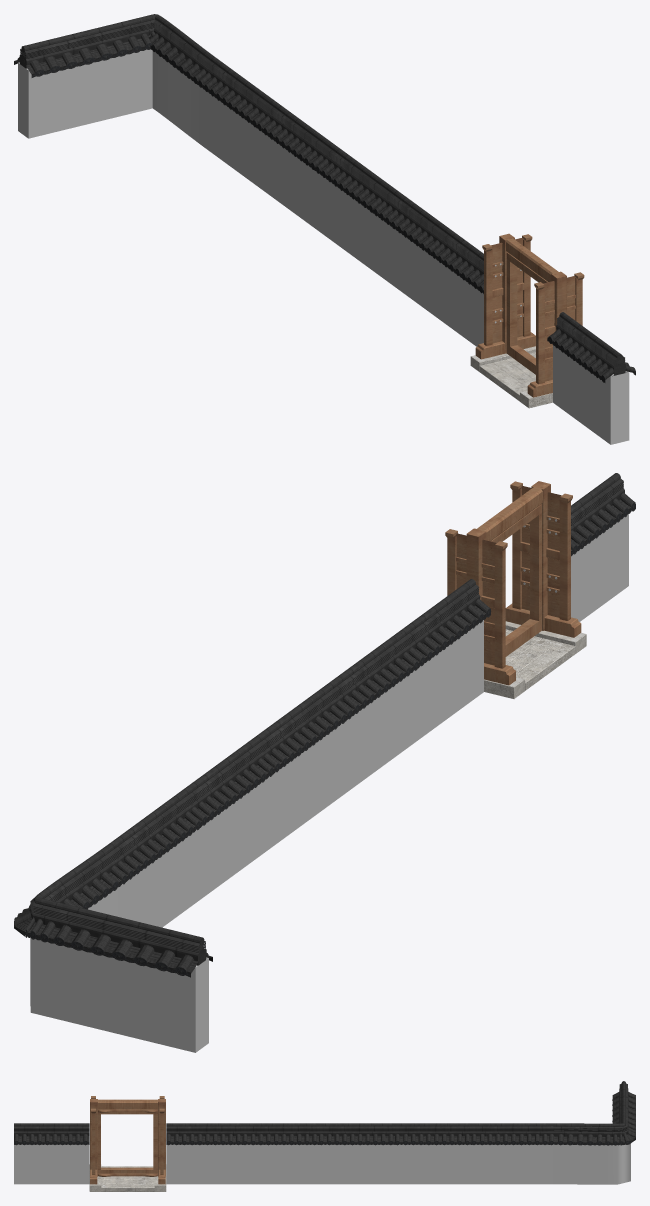
Rendered from SM_JSH_HG_StoneWallH_Splines_6.fbx.
3 renders of one model, top to bottom at view 1: azimuth 30°, elevation 25°; view 2: azimuth 150°, elevation 25°; view 3: azimuth 270°, elevation 25°, orthographic. The views are drawn at different scales.
Parts seen in each view (by area): view 1: SM_JSH_HG_StoneWallH_Splines_6; view 2: SM_JSH_HG_StoneWallH_Splines_6; view 3: SM_JSH_HG_StoneWallH_Splines_6.
Boxes of the visible parts, box(x1,y1,x2,y2) form: SM_JSH_HG_StoneWallH_Splines_6: box(14, 14, 635, 444); SM_JSH_HG_StoneWallH_Splines_6: box(14, 473, 635, 1052); SM_JSH_HG_StoneWallH_Splines_6: box(14, 1081, 635, 1191).
Size of the model in its own units: 349 by 1733 by 248.
